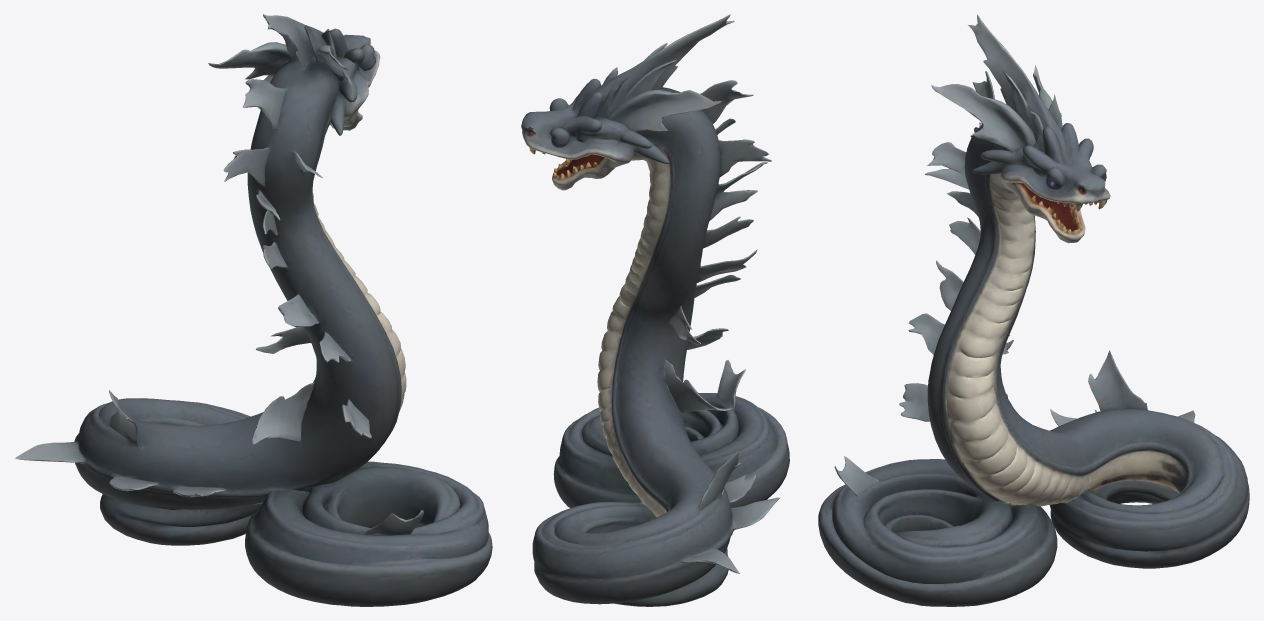
Rendered from fogSerpent.glb.
3 renders of one model, left to right at view 1: azimuth 30°, elevation 25°; view 2: azimuth 150°, elevation 25°; view 3: azimuth 270°, elevation 25°, orthographic. The views are drawn at different scales.
Parts seen in each view (by area): view 1: geometry_0; view 2: geometry_0; view 3: geometry_0.
Part boxes in pixels (left/top/right/bottom): geometry_0: left=14, top=14, right=492, bottom=606; geometry_0: left=521, top=14, right=789, bottom=606; geometry_0: left=818, top=14, right=1249, bottom=606.
Size of the model in its own units: 0.602 by 0.9972 by 0.761.
Materials: 1 (1 with a texture image).
